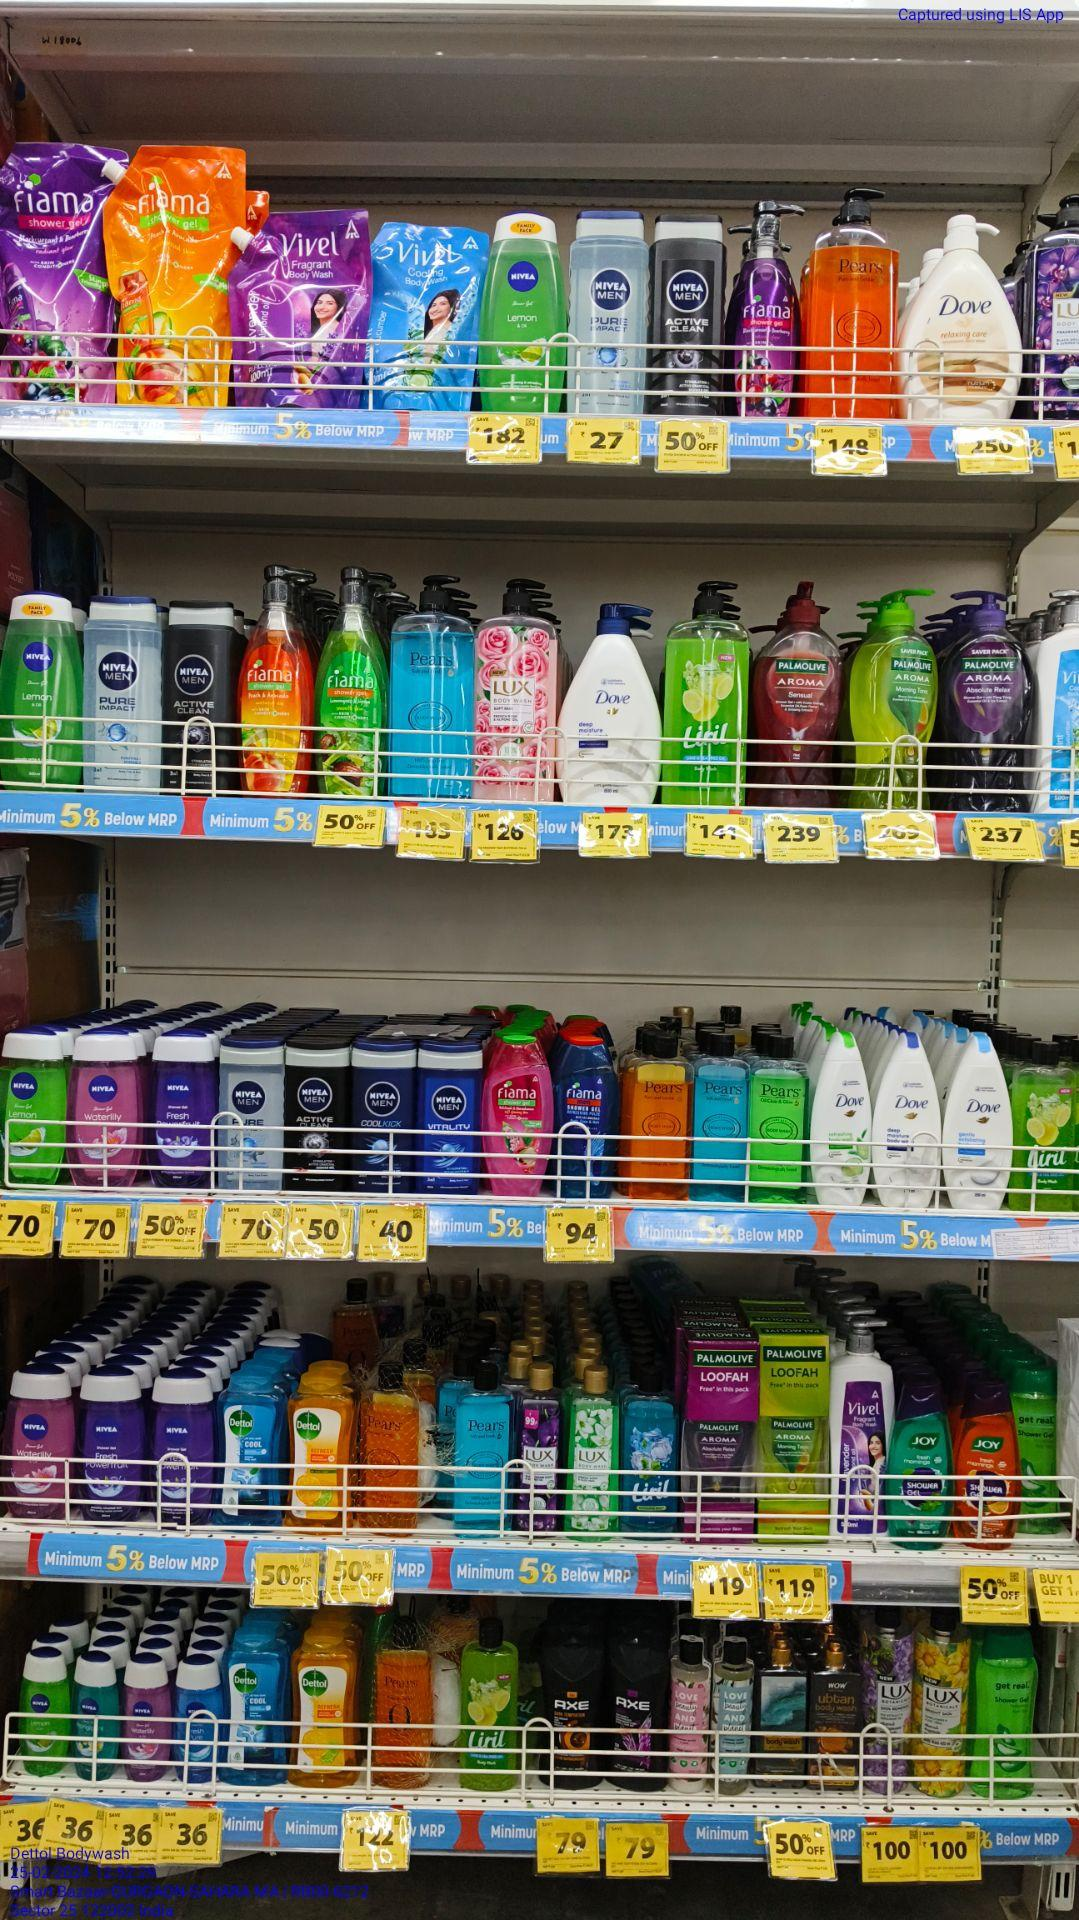Dettol_Bodywash_Cool: (216, 1375, 281, 1530), (223, 1640, 285, 1787)
Dettol_Bodywash_Refresh: (288, 1377, 354, 1538), (293, 1636, 357, 1785)
Dove_Deep_Moisture_Body_Wash_250ML: (876, 1033, 942, 1208)
Dove_Gentle_Exfoliating_Body_Wash_250ML: (944, 1036, 1013, 1211)
Dove_Refreshing_Body_Wash_250ML: (813, 1031, 869, 1207)
Fiama_Shower_Gel_Patchouli_and_Macadamia_250ML: (485, 1036, 553, 1192)
Joy_Shower_Gel_Mandarin_and_Lemongrass_250ML: (954, 1387, 1017, 1549)
Joy_Shower_Gel_Mint_and_Eucalyptus_250ML: (889, 1391, 948, 1551)
Liril_Cooling_Mint_Body_Wash_250ML: (625, 1373, 678, 1542), (696, 1035, 749, 1203)
Liril_Lime_and_Tea_Tree_Oil_Body_Wash_250ML: (1014, 1040, 1078, 1212), (458, 1622, 520, 1789)
Lux_Black_Orchid_Scent_and_Juniper_Oil_Body_Wash_245ML: (520, 1366, 566, 1536)
Lux_Body_Wash_Skin_Detox_Freesia_Scent_and_Alove_Vera_245ML: (571, 1366, 617, 1543)
Nivea_Shower_Gel_Fresh_Powerfruit_250ML: (79, 1370, 141, 1528), (152, 1374, 212, 1528)
Nivea_Shower_Gel_Lemon_and_Oil_250ML: (481, 215, 562, 414), (7, 593, 82, 791), (0, 1034, 62, 1183)
Nivea_Shower_Gel_Waterlily_and_Oil_250ML: (78, 1034, 142, 1179), (7, 1367, 67, 1518)
Pears_Pure_Glycerin_and_Lemon_Flower_Extracts_Body_Wash_250ML: (753, 1035, 810, 1201)
Pears_Pure_Glycerin_and_Mint_Extracts_Body_Wash_250ML: (451, 1370, 513, 1539)
